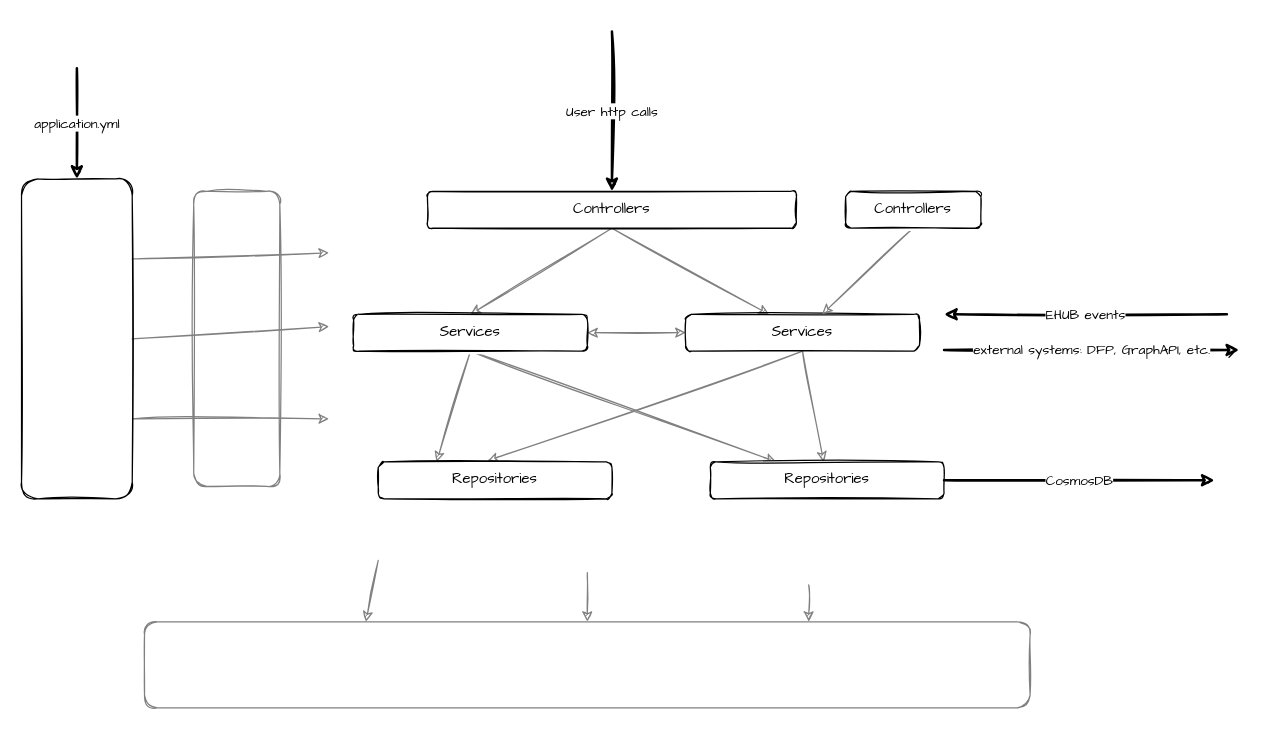
Some shapes in this 1272 by 729 pixel diagram are drawn without their labels. The box of each missing label's shape, as (x1, y1, x2, y2) in pixels:
App Insights Agent, Micrometer, Actuator: (143, 621, 1030, 708)
background beans: factories, schedulers, registries, connectors, bindings: (192, 190, 280, 486)
Config: (20, 178, 132, 499)
